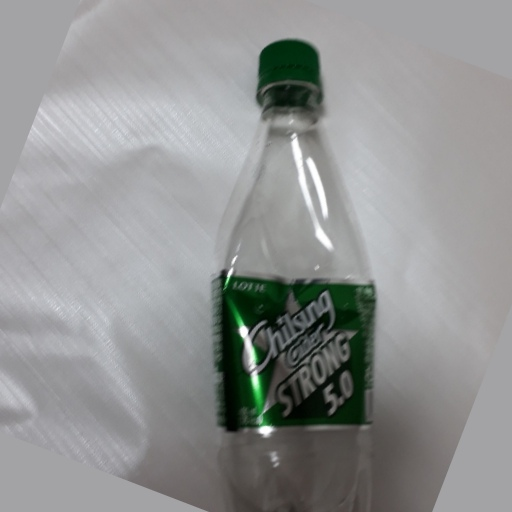Plastic_0: (211, 40, 381, 512)
